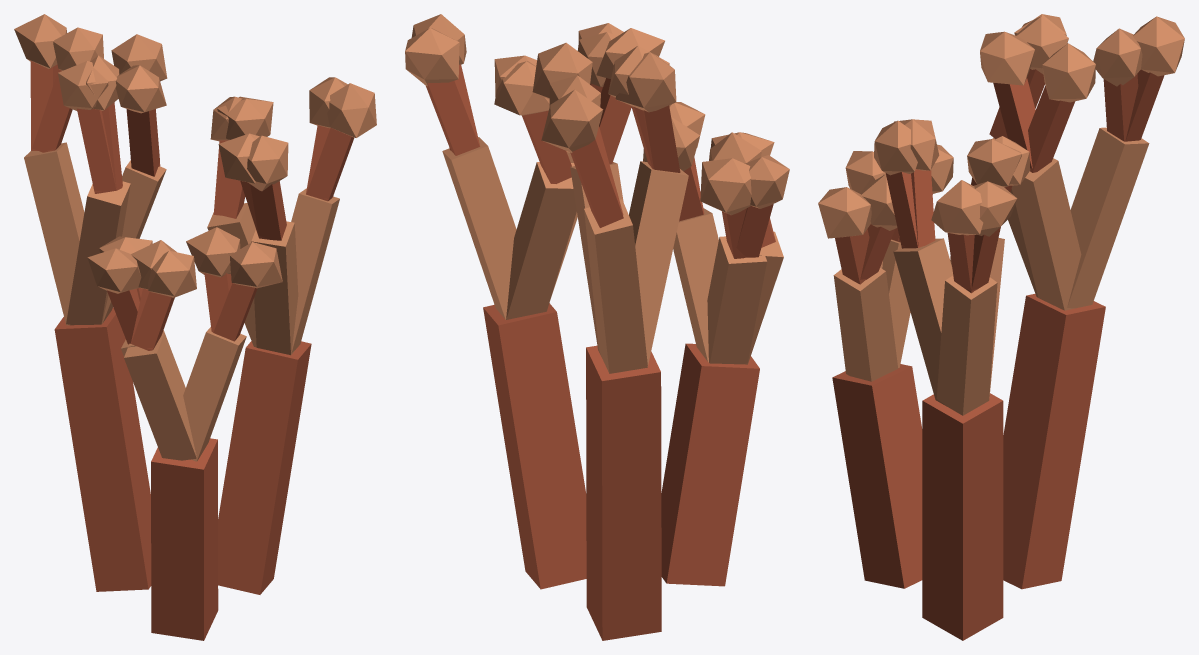
The model's file is coral.glb.
3 views of the same model, side by side, from view 1: azimuth 30°, elevation 25°; view 2: azimuth 150°, elevation 25°; view 3: azimuth 270°, elevation 25° (orthographic). The views are drawn at different scales.
Visible parts, largest first — view 1: coral; view 2: coral; view 3: coral.
Part boxes in pixels (bbox=[...]): coral: bbox=[14, 14, 376, 640]; coral: bbox=[405, 14, 789, 640]; coral: bbox=[818, 14, 1184, 640].
Bounding box in the file's own units: 8.2 × 13.64 × 8.17.
